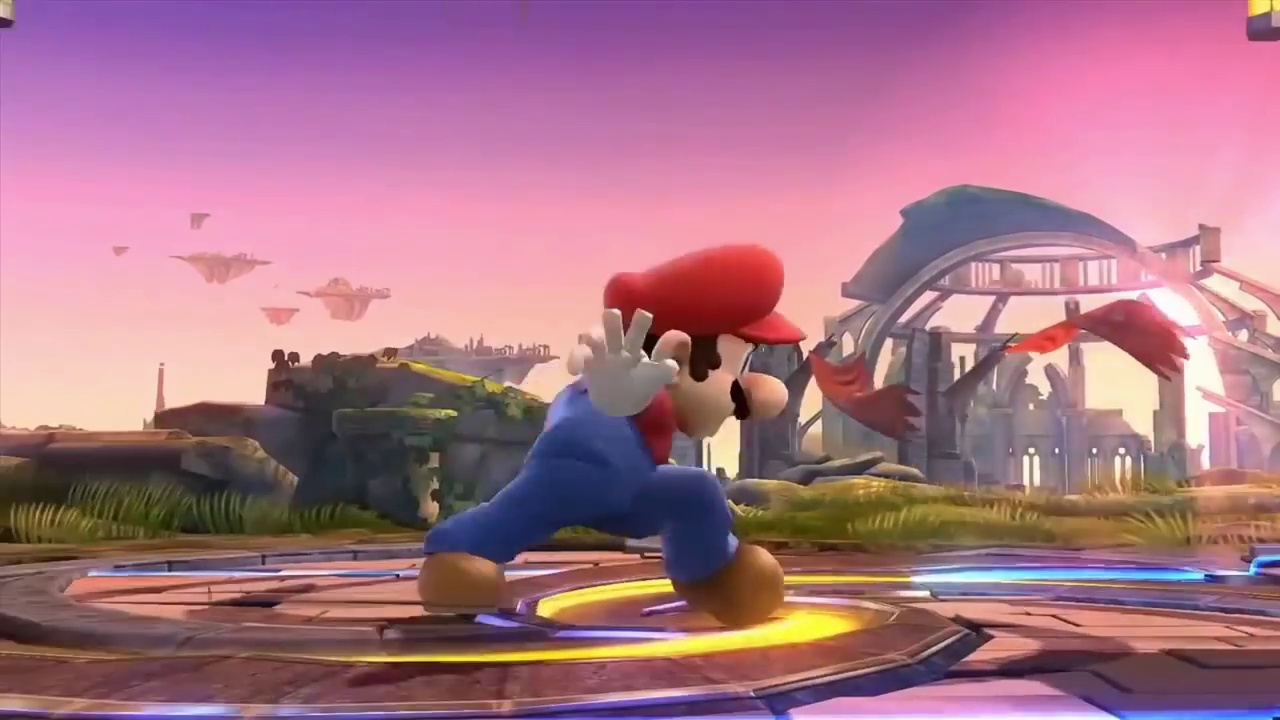Mario: (419, 247, 806, 626)
